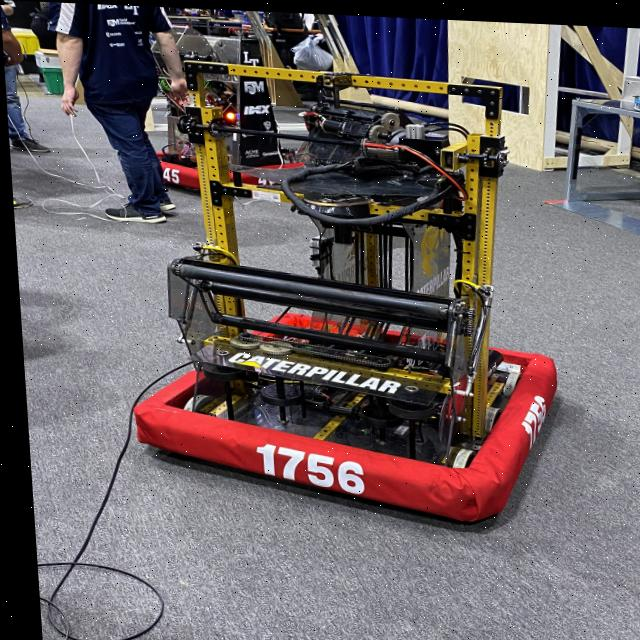robot: (107, 47, 565, 534)
